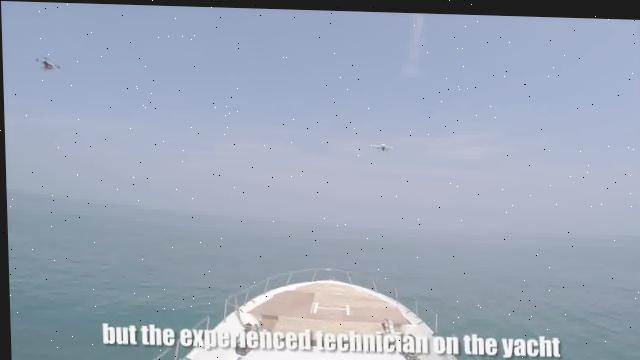drone: (31, 51, 60, 71), (368, 132, 392, 149)
